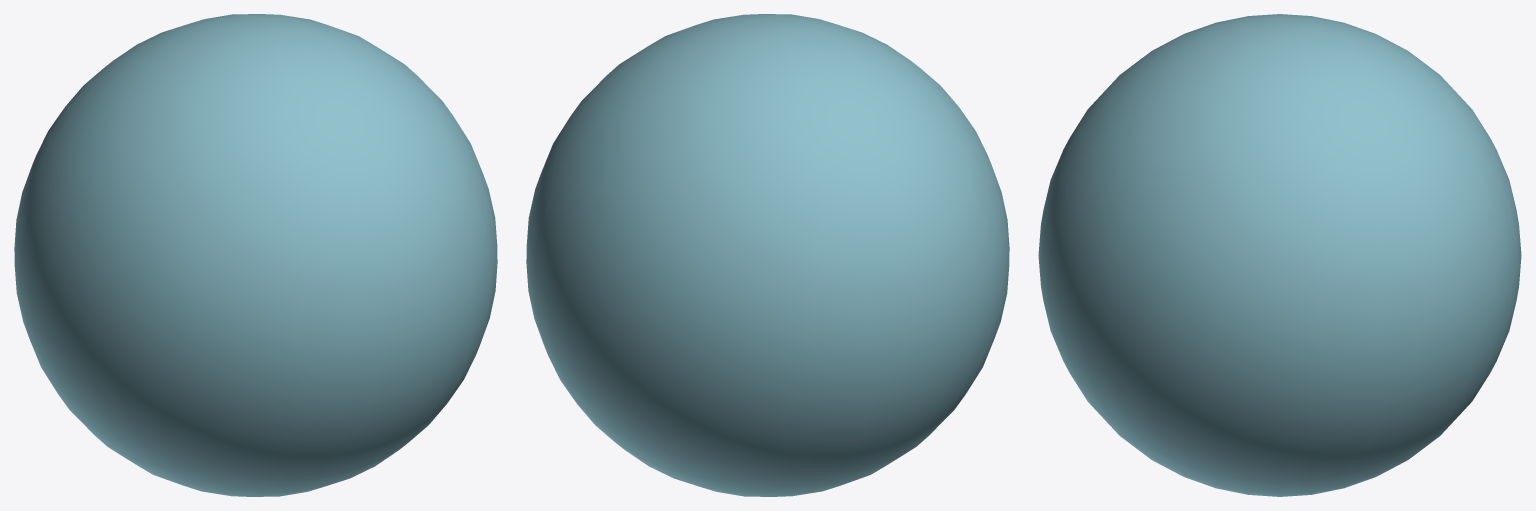
File: 86_Rn_CKP.fbx
3 views of the same model, side by side, from view 1: azimuth 30°, elevation 25°; view 2: azimuth 150°, elevation 25°; view 3: azimuth 270°, elevation 25° (orthographic).
Parts seen in each view (by area): view 1: RN.002; view 2: RN.002; view 3: RN.002.
Boxes of the visible parts, left/top/right/bottom form: RN.002: left=14, top=14, right=497, bottom=496; RN.002: left=526, top=14, right=1009, bottom=496; RN.002: left=1038, top=14, right=1521, bottom=496.
Bounding box in the file's own units: 348 × 348 × 348.
